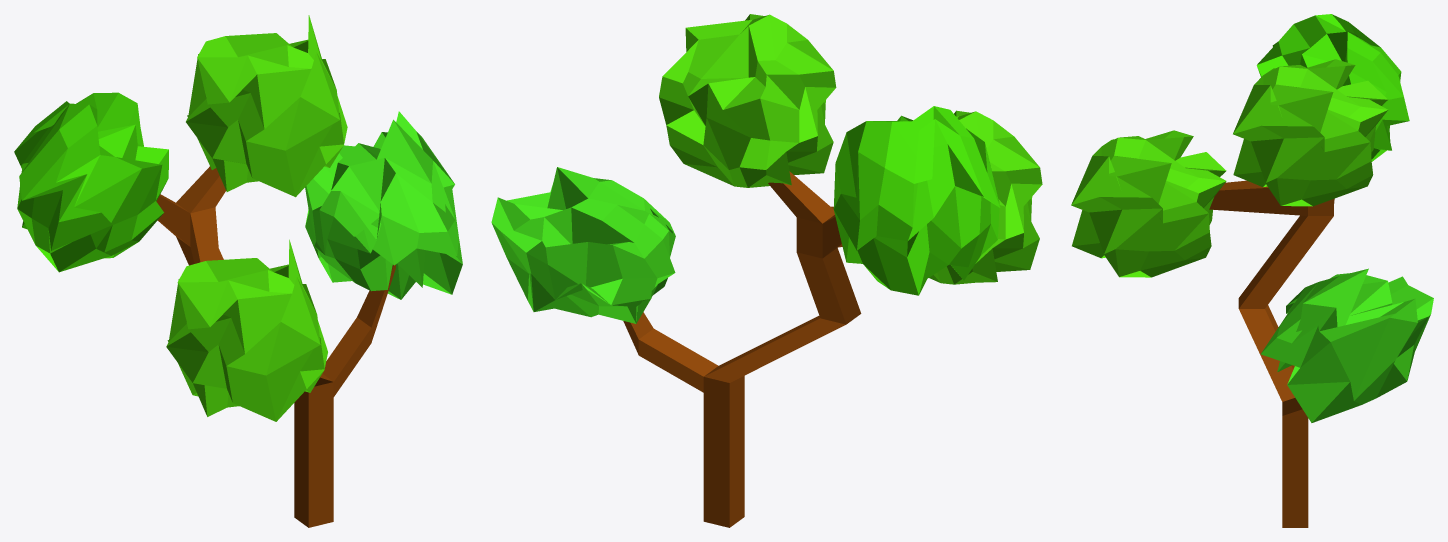
File: wood1.fbx
3 views of the same model, side by side, from view 1: azimuth 30°, elevation 25°; view 2: azimuth 150°, elevation 25°; view 3: azimuth 270°, elevation 25° (orthographic). The views are drawn at different scales.
Visible parts, largest first — view 1: 立方体.001, 立方体.003, 立方体.004, 立方体.002, 立方体; view 2: 立方体.003, 立方体.002, 立方体.001, 立方体, 立方体.004; view 3: 立方体.001, 立方体.003, 立方体.004, 立方体, 立方体.002.
Part boxes in pixels (<box>): 立方体.001: <box>305,111,462,299</box>; 立方体.003: <box>186,15,347,197</box>; 立方体.004: <box>166,239,327,421</box>; 立方体.002: <box>14,92,168,272</box>; 立方体: <box>156,166,395,527</box>; 立方体.003: <box>659,14,836,187</box>; 立方体.002: <box>833,106,1000,295</box>; 立方体.001: <box>491,167,675,323</box>; 立方体: <box>623,171,861,527</box>; 立方体.004: <box>929,110,1042,284</box>; 立方体.001: <box>1261,268,1433,422</box>; 立方体.003: <box>1233,59,1387,206</box>; 立方体.004: <box>1071,130,1226,277</box>; 立方体: <box>1209,180,1334,527</box>; 立方体.002: <box>1256,14,1409,161</box>.
Size of the model in its own units: 353 by 373 by 279.
